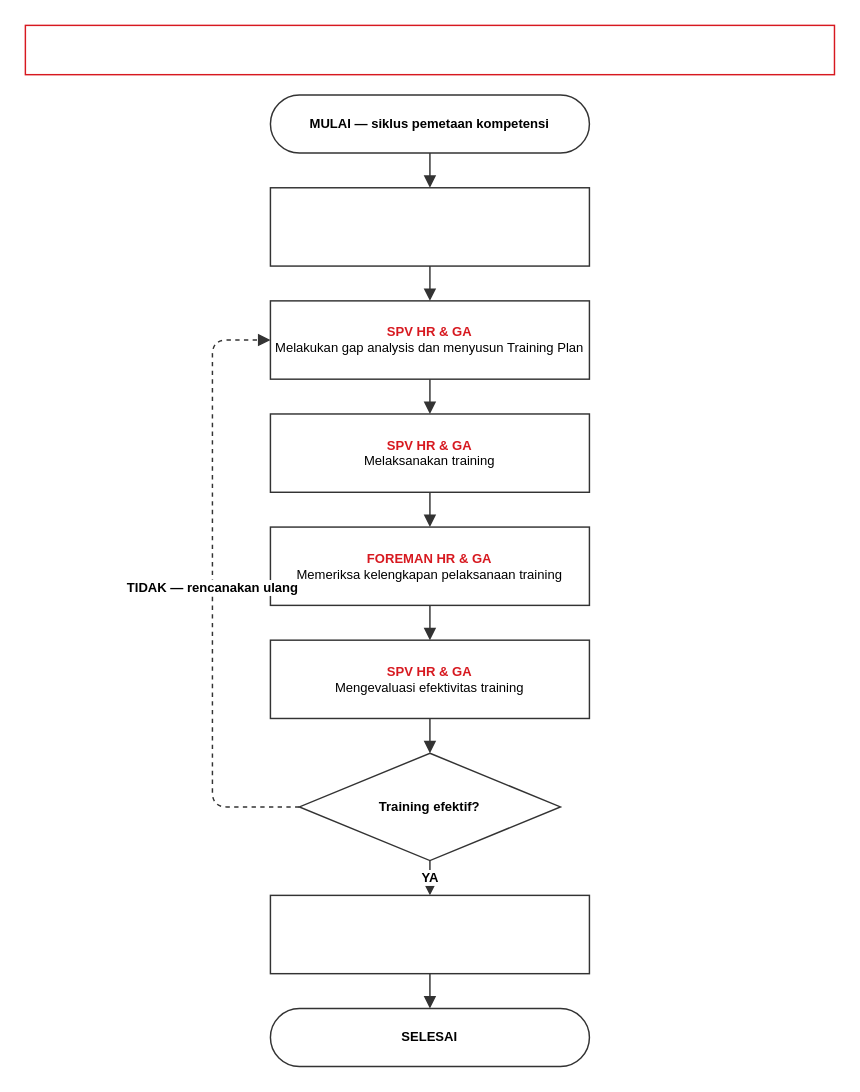
Some shapes in this 860 by 1092 pixel diagram are drawn without their labels. The centre of each missing label's shape, as x and y in pixels:
"SELURUH DIVISI Menyampaikan kebutuhan kompetensi" goes at (x=429, y=226).
"SOP-AKSI-HRGA-02 EVALUASI KOMPETENSI & TRAINING" goes at (x=429, y=49).
"SPV HR & GA Memperbarui Matriks Kompetensi" goes at (x=429, y=934).
